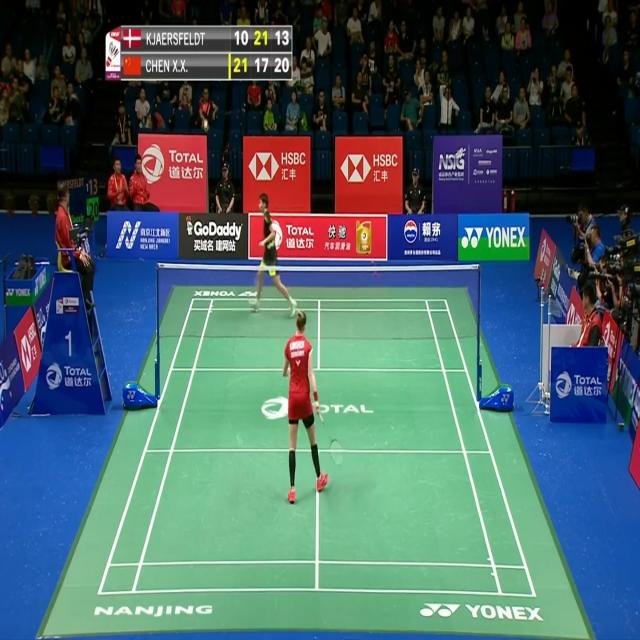Player1: (278, 310, 334, 505)
Player2: (248, 192, 300, 324)
